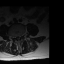CCS_normal: (17, 35, 19, 43)
LFS_stenosis: (21, 33, 22, 38)
LLS_severe_stenosis: (19, 34, 20, 40)
RFS_stenosis: (13, 35, 15, 40)
RLS_stenosis: (15, 35, 17, 40)
